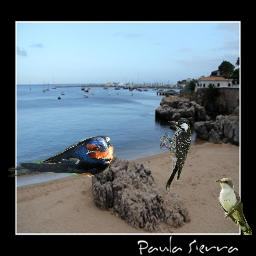Cuckoo: (215, 177, 252, 235)
Swallow: (8, 135, 114, 177)
Woodpecker: (160, 120, 191, 191)
